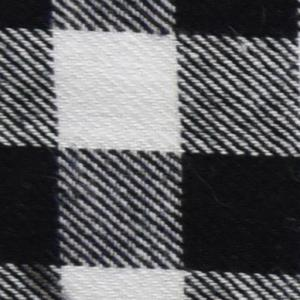Stain: (14, 256, 66, 300)
